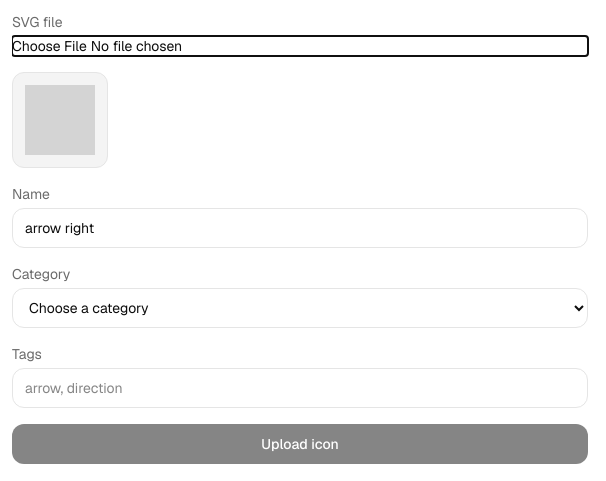
Test case: <IconUploadForm /> › only enables upload once there is a file, a name and a category
Earlier steps of the test are not shown.
Check: the button "Upload icon" is disabled, box [12, 424, 588, 464]
Step 1. Select "Arrows" in the dropdown labelled "Category" → [300, 308], box [12, 288, 588, 328]
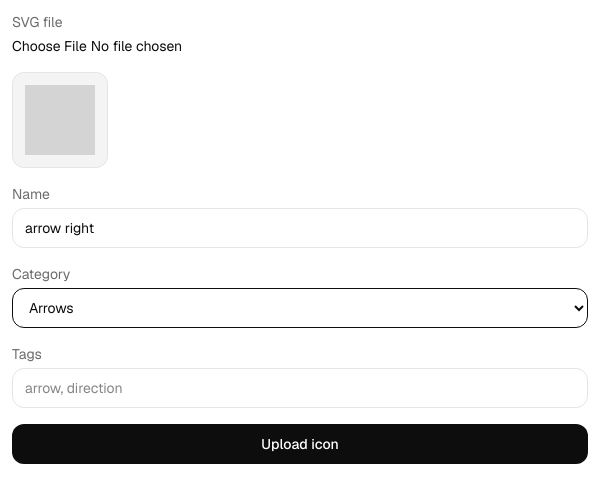
Check: the button "Upload icon" is enabled, box [12, 424, 588, 464]
